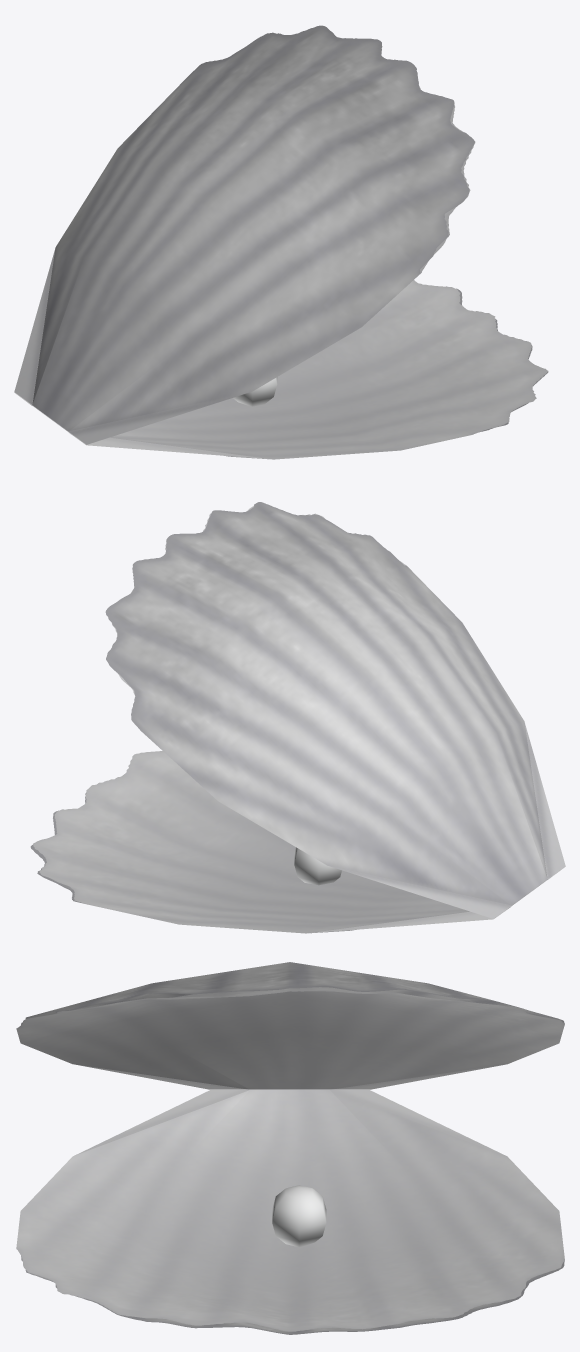
File: shellOpen.fbx
3 renders of one model, top to bottom at view 1: azimuth 30°, elevation 25°; view 2: azimuth 150°, elevation 25°; view 3: azimuth 270°, elevation 25°, orthographic. The views are drawn at different scales.
Parts seen in each view (by area): view 1: shellOpenObject; view 2: shellOpenObject; view 3: shellOpenObject.
Part boxes in pixels (box(x1,y1,x2,y2)): shellOpenObject: box(14, 25, 548, 459); shellOpenObject: box(30, 502, 565, 933); shellOpenObject: box(16, 962, 564, 1334).
Bounding box in the file's own units: 0.1823 × 0.1225 × 0.1692.
Materials: 1 (1 with a texture image).
